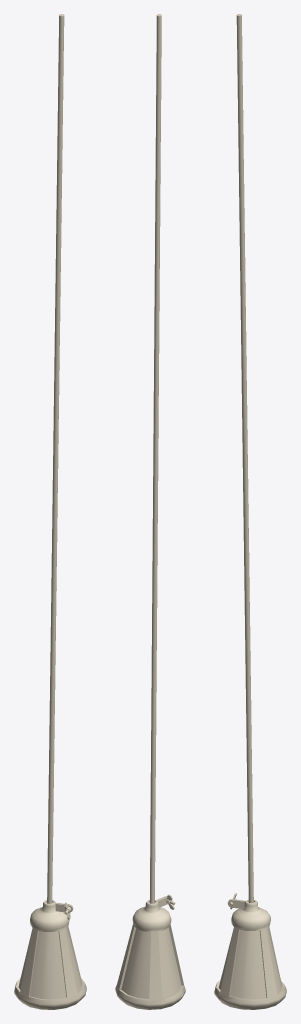
File: AntennaSKDFZ2.fbx
3 views of the same model, side by side, from view 1: azimuth 90°, elevation 25°; view 2: azimuth 150°, elevation 25°; view 3: azimuth 270°, elevation 25° (orthographic).
Visible parts, largest first — view 1: Antenna2; view 2: Antenna2; view 3: Antenna2.
Part boxes in pixels (x1,y1,x2,y2): Antenna2: [14, 14, 86, 1009]; Antenna2: [115, 14, 185, 1009]; Antenna2: [214, 14, 286, 1009].
Bounding box in the file's own units: 0.3539 × 0.3403 × 5.31.
